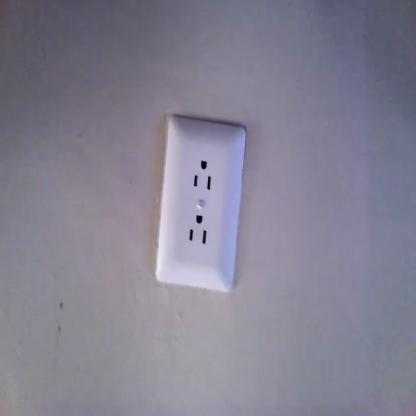OUTLET: (156, 120, 246, 290)
